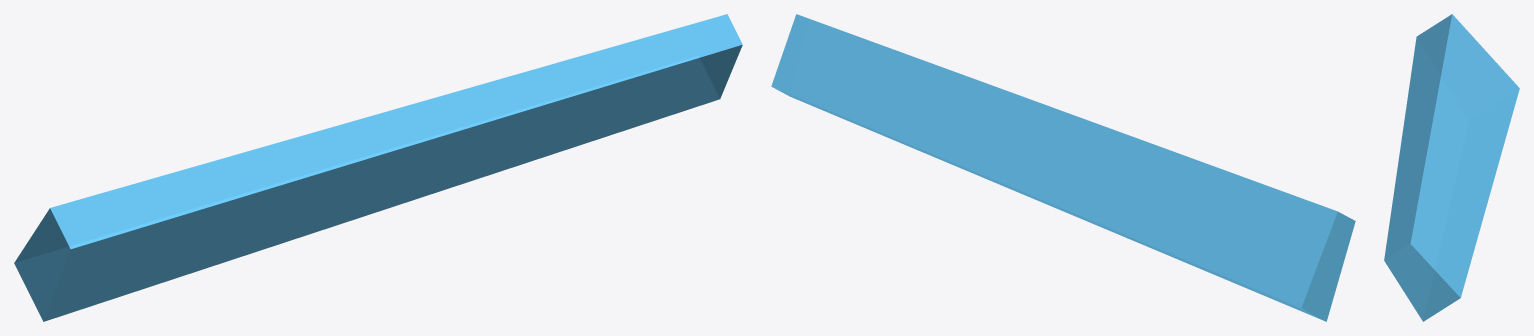
File: Event_421364160_HErechit_55.fbx
The picture shows the model from 3 angles, left to right: view 1: azimuth 30°, elevation 25°; view 2: azimuth 150°, elevation 25°; view 3: azimuth 270°, elevation 25°; orthographic projection. The views are drawn at different scales.
Visible parts, largest first — view 1: Model; view 2: Model; view 3: Model.
Part boxes in pixels (<box>): Model: <box>14,14,742,321</box>; Model: <box>771,14,1355,321</box>; Model: <box>1384,14,1519,321</box>.
Bounding box in the file's own units: 3.89 × 0.9912 × 0.8115.
